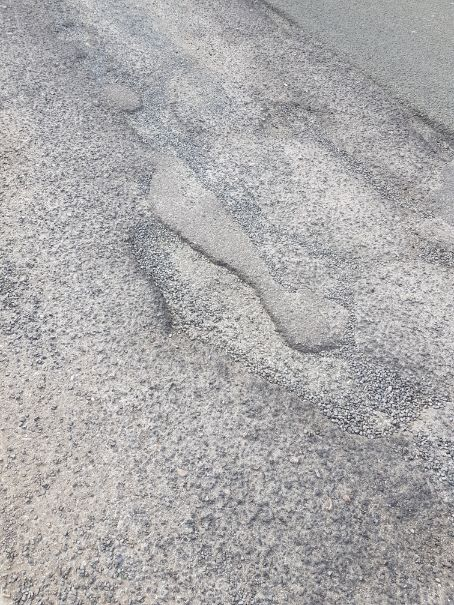pothole: (123, 212, 345, 383)
